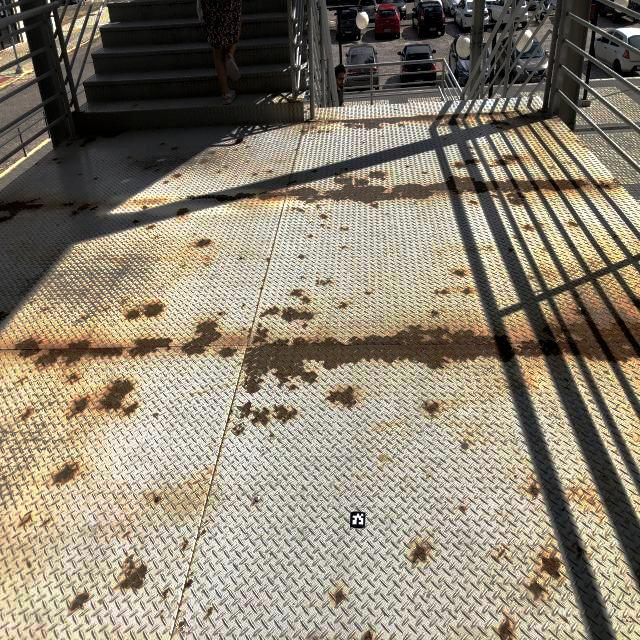Corrosion: (242, 319, 640, 396), (258, 171, 586, 209), (327, 110, 520, 130), (34, 339, 126, 368), (179, 318, 222, 357), (100, 377, 135, 412), (128, 336, 173, 360), (120, 554, 147, 589), (324, 384, 357, 409), (186, 191, 257, 202), (53, 461, 79, 486), (13, 338, 44, 358), (539, 552, 561, 580), (67, 396, 90, 420), (273, 403, 298, 424), (248, 405, 270, 427), (281, 307, 313, 322), (527, 579, 547, 600), (498, 616, 513, 640), (71, 593, 90, 611), (90, 130, 128, 139), (143, 302, 162, 319), (455, 158, 480, 170), (422, 401, 438, 419), (236, 402, 252, 420), (411, 545, 426, 564), (252, 327, 269, 343), (260, 305, 279, 318), (72, 202, 91, 215), (217, 347, 238, 358), (122, 402, 137, 416), (78, 136, 97, 147), (65, 373, 82, 385), (369, 170, 386, 181), (126, 308, 140, 321), (490, 158, 509, 167), (232, 422, 245, 435), (196, 237, 210, 249), (486, 119, 509, 126), (595, 180, 611, 189), (336, 590, 345, 606), (20, 513, 31, 526), (574, 308, 589, 317), (22, 407, 31, 421), (16, 375, 27, 386), (175, 209, 190, 217), (196, 529, 206, 541), (503, 154, 520, 161), (290, 288, 303, 297), (363, 629, 373, 640), (530, 483, 538, 496), (162, 587, 170, 600), (631, 298, 640, 309), (184, 579, 193, 590), (611, 178, 623, 186), (288, 384, 300, 392), (301, 296, 311, 305), (227, 409, 233, 424), (577, 545, 583, 559), (452, 270, 464, 277), (497, 549, 506, 558), (319, 279, 332, 285), (569, 221, 579, 228), (234, 138, 245, 144), (142, 165, 153, 171), (42, 518, 50, 526), (338, 302, 347, 309), (173, 172, 183, 178), (292, 207, 304, 212), (206, 606, 212, 616), (62, 202, 74, 207), (525, 225, 533, 232), (431, 311, 439, 318), (463, 287, 471, 294), (82, 313, 90, 320), (270, 93, 281, 98), (199, 158, 208, 164), (89, 205, 98, 211), (519, 113, 529, 118), (178, 621, 185, 628), (491, 555, 499, 561), (320, 214, 328, 220), (141, 204, 148, 210), (147, 224, 155, 229), (491, 194, 499, 199), (103, 306, 111, 311), (133, 218, 139, 224), (287, 96, 293, 102), (124, 531, 130, 537), (208, 150, 215, 155), (301, 323, 308, 328), (182, 543, 187, 550), (155, 497, 162, 502), (469, 200, 477, 204), (340, 227, 348, 231), (460, 505, 465, 511), (441, 289, 447, 294), (300, 275, 306, 280), (311, 169, 318, 173), (52, 157, 59, 161), (257, 323, 262, 328), (66, 142, 71, 147), (291, 180, 297, 184), (27, 301, 33, 305), (42, 307, 48, 311), (496, 126, 503, 129), (316, 279, 319, 286), (504, 555, 508, 560), (435, 289, 439, 294), (268, 169, 273, 173), (266, 258, 270, 263), (320, 223, 325, 227), (563, 617, 567, 622), (300, 130, 306, 133), (365, 291, 371, 294), (269, 434, 275, 437), (468, 145, 472, 149), (217, 170, 221, 174), (300, 255, 304, 259), (180, 627, 184, 631), (123, 298, 127, 302), (164, 180, 168, 184), (155, 168, 159, 172), (509, 249, 514, 252), (245, 145, 250, 148), (308, 234, 313, 237), (172, 147, 177, 150), (160, 142, 165, 145), (544, 126, 548, 129), (514, 236, 518, 239), (253, 173, 257, 176), (223, 165, 227, 168), (234, 148, 238, 151), (345, 167, 348, 171), (259, 287, 263, 290), (341, 246, 345, 249), (317, 205, 320, 209), (318, 131, 323, 133), (326, 130, 329, 133), (182, 631, 185, 634), (125, 553, 128, 556), (423, 172, 427, 174), (186, 540, 188, 544), (472, 152, 474, 155), (569, 129, 571, 132), (308, 108, 310, 111), (242, 305, 245, 307), (559, 119, 561, 121)
